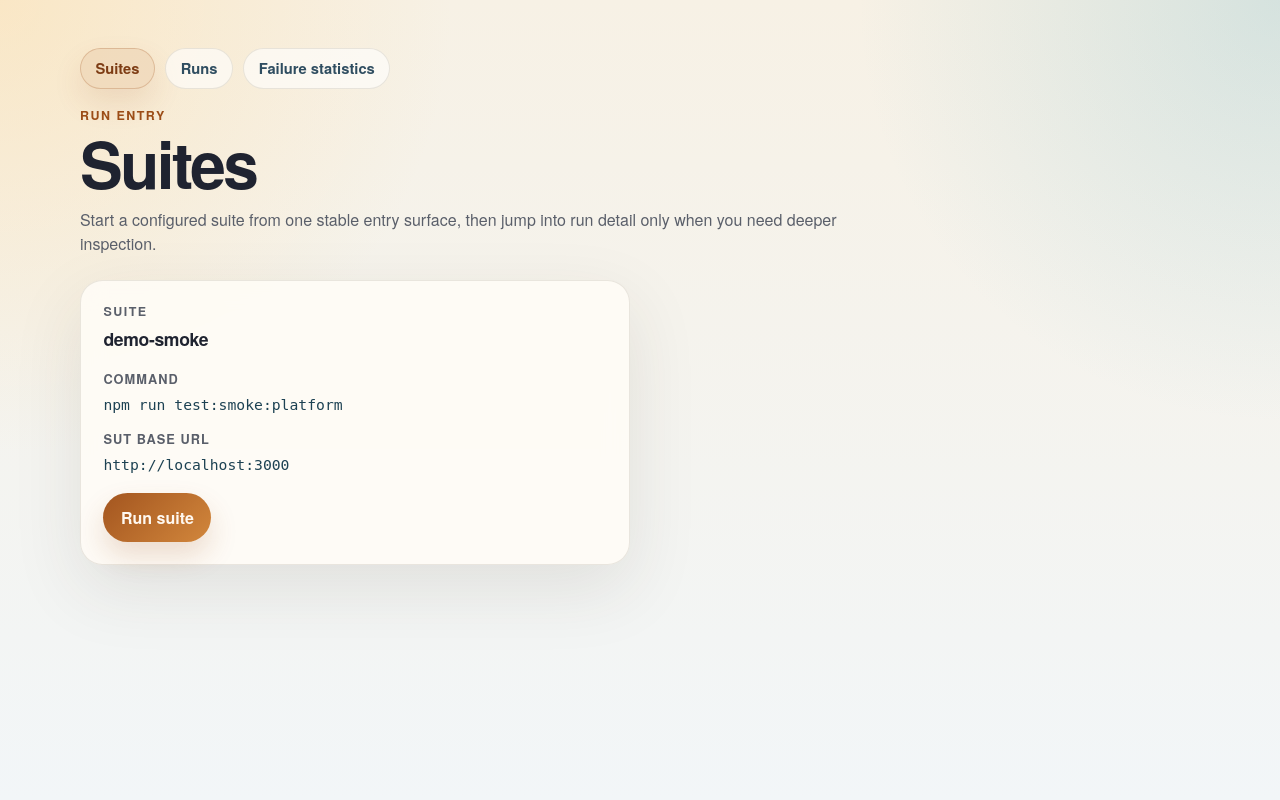
shows create-run errors and restores the suite action for retry
Expected: the text "demo-smoke" is shown, [103, 326, 208, 350]
Click the button "Run suite": (157, 518) [103, 493, 211, 542]
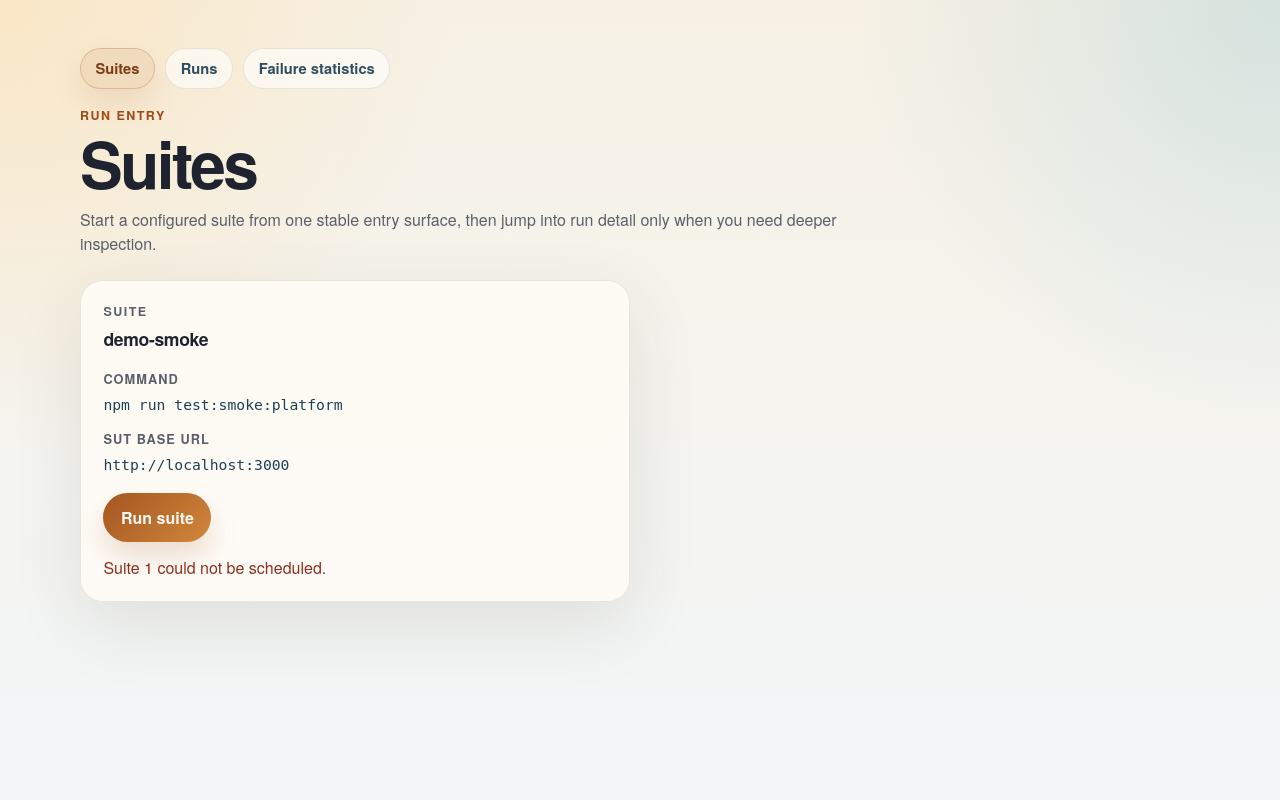
Now the text "Suite 1 could not be scheduled." is shown, box [103, 556, 326, 579]
